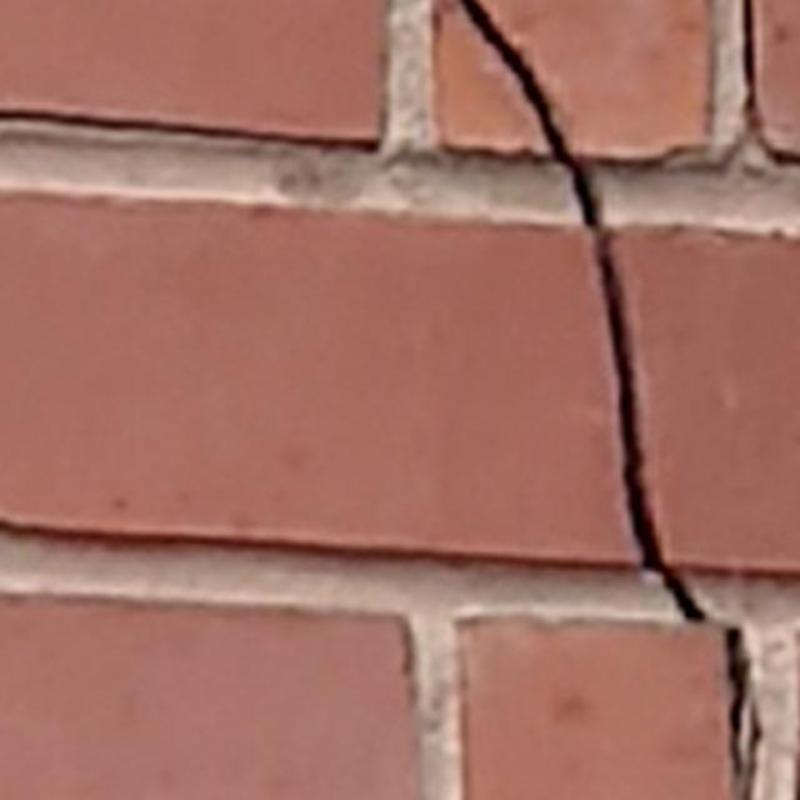pothole: (460, 0, 705, 621), (672, 0, 799, 172), (727, 628, 761, 799)
